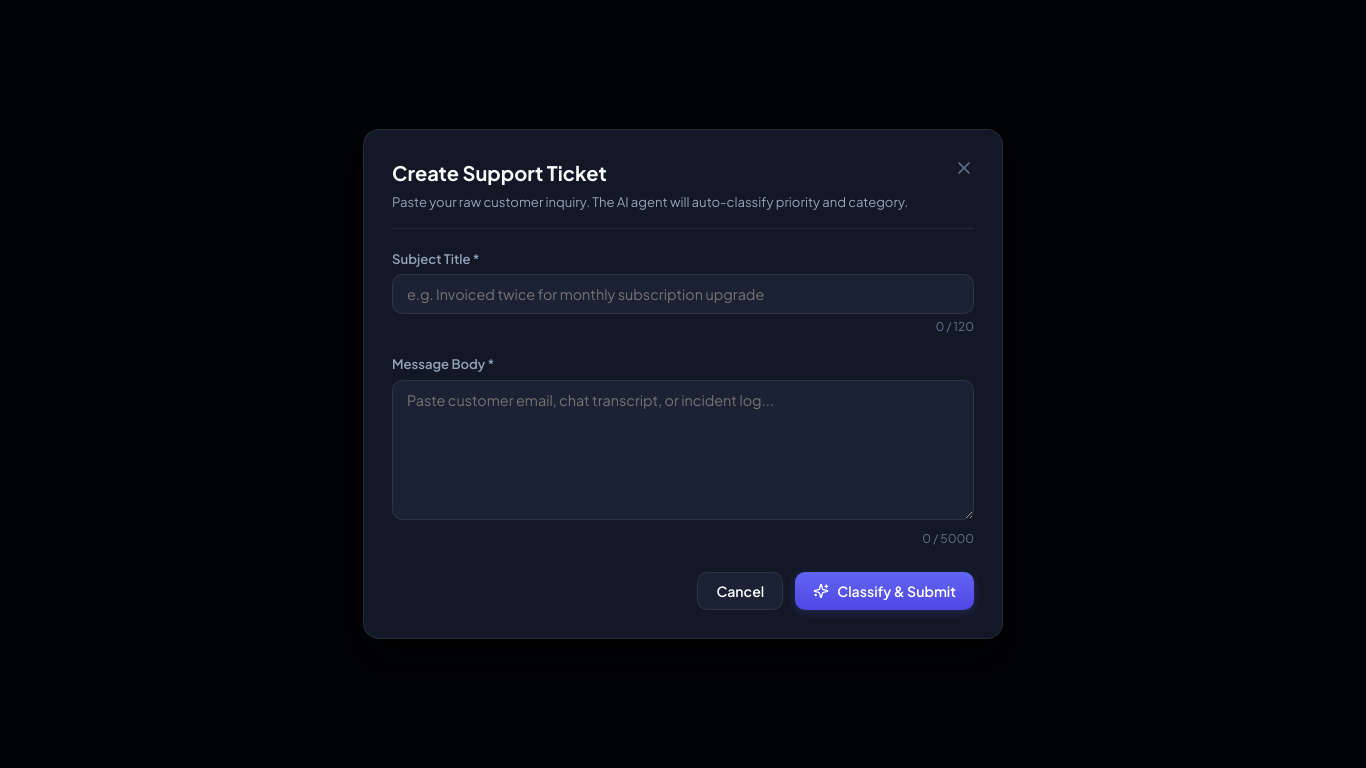
TicketForm Component › validates minimum character lengths for subject and message body
Click the button "Classify & Submit" at point(885, 591), box [795, 572, 974, 610]
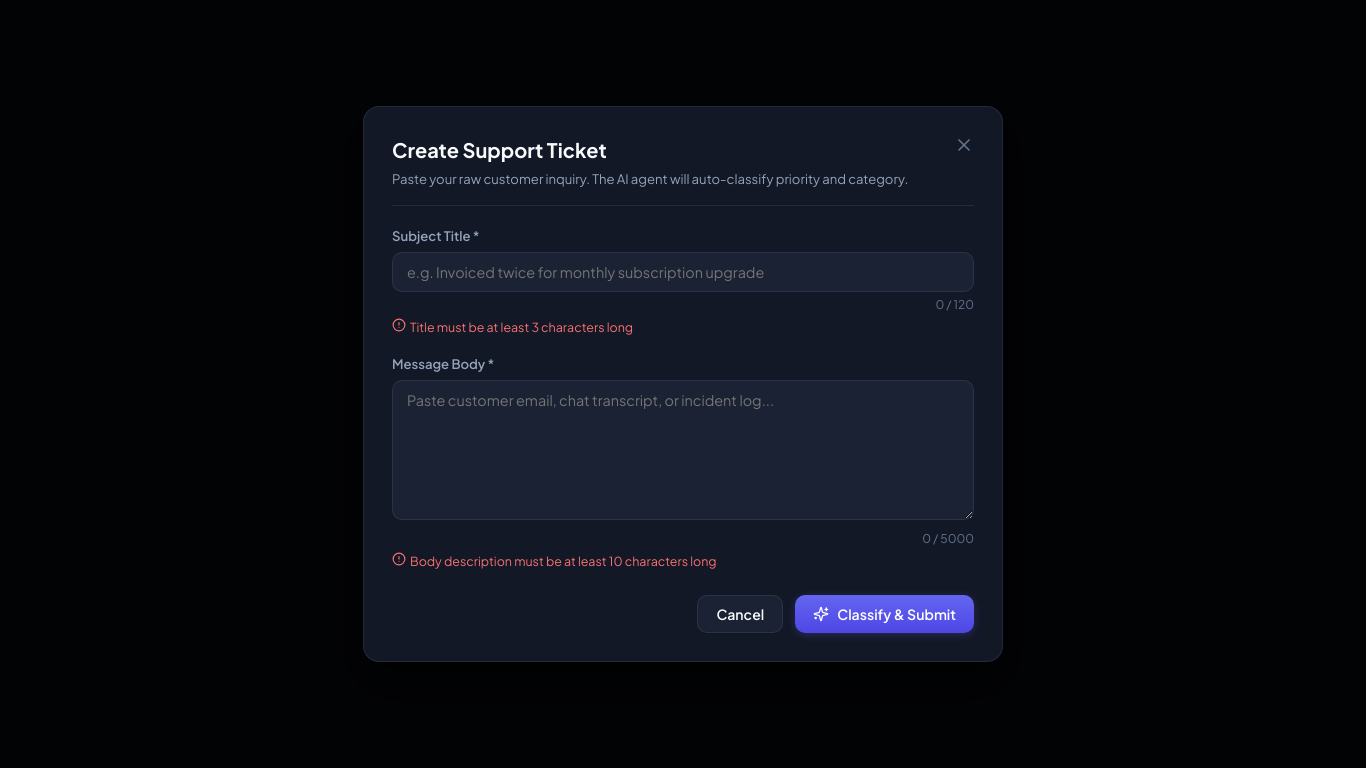
Expected: the text "Title must be at least 3 characters long" is shown, [392, 318, 633, 335]
Expected: the text "Body description must be at least 10 characters long" is shown, [392, 552, 717, 569]
